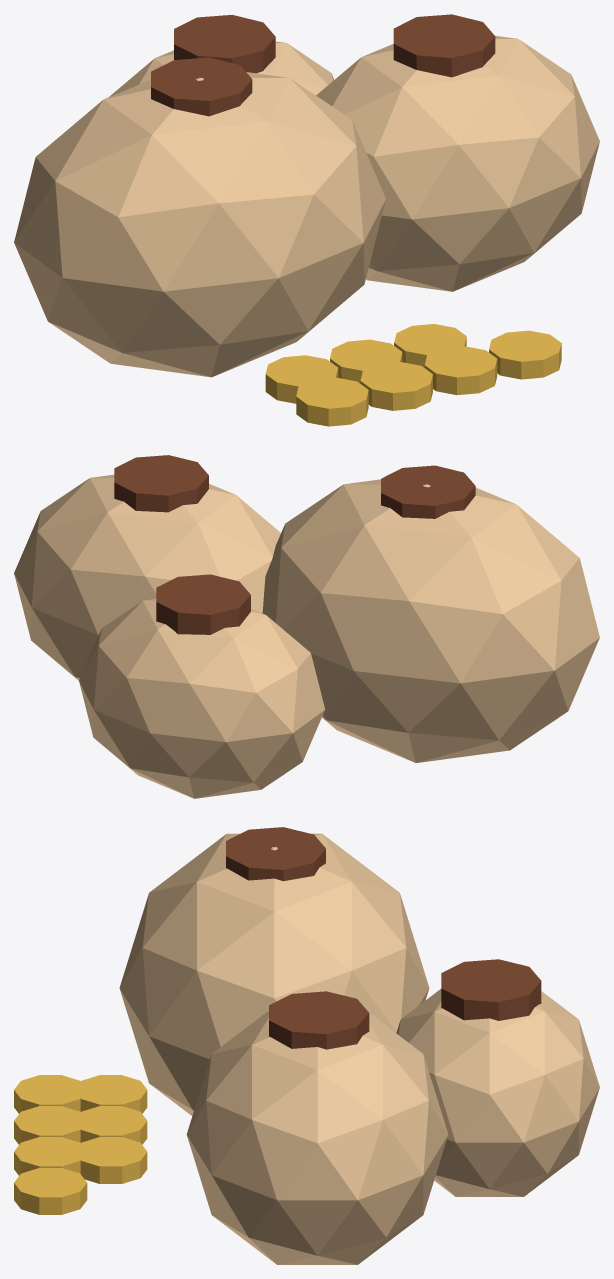
The model's file is gold-sacks.glb.
3 views of the same model, one above another, from view 1: azimuth 30°, elevation 25°; view 2: azimuth 150°, elevation 25°; view 3: azimuth 270°, elevation 25° (orthographic). The views are drawn at different scales.
Visible parts, largest first — view 1: Canvas sack, Canvas sack.001, Sack tie.001, Sack tie, Sack tie.002, Loose gold coin, Loose gold coin.001, Loose gold coin.003, Loose gold coin.002, Canvas sack.002, Loose gold coin.004, Loose gold coin.006 (+1 smaller); view 2: Canvas sack, Canvas sack.002, Canvas sack.001, Sack tie.002, Sack tie.001, Sack tie; view 3: Canvas sack.001, Canvas sack, Canvas sack.002, Sack tie.002, Sack tie.001, Sack tie, Loose gold coin.003, Loose gold coin.006, Loose gold coin.001, Loose gold coin.004, Loose gold coin.002, Loose gold coin (+1 smaller).
Boxes of the visible parts, bbox=[...] form: Canvas sack: bbox=[14, 72, 385, 377]; Canvas sack.001: bbox=[316, 35, 599, 291]; Sack tie.001: bbox=[393, 14, 495, 77]; Sack tie: bbox=[151, 57, 252, 116]; Sack tie.002: bbox=[174, 15, 275, 73]; Loose gold coin: bbox=[296, 377, 368, 426]; Loose gold coin.001: bbox=[360, 362, 432, 410]; Loose gold coin.003: bbox=[489, 330, 561, 379]; Loose gold coin.002: bbox=[424, 346, 497, 395]; Canvas sack.002: bbox=[109, 41, 334, 96]; Loose gold coin.004: bbox=[265, 355, 338, 403]; Loose gold coin.006: bbox=[394, 324, 466, 367]; Canvas sack: bbox=[262, 479, 599, 762]; Canvas sack.002: bbox=[79, 599, 325, 798]; Canvas sack.001: bbox=[14, 474, 280, 680]; Sack tie.002: bbox=[156, 574, 250, 634]; Sack tie.001: bbox=[114, 455, 208, 512]; Sack tie: bbox=[381, 465, 475, 518]; Canvas sack.001: bbox=[186, 1010, 448, 1264]; Canvas sack: bbox=[119, 833, 429, 1115]; Canvas sack.002: bbox=[396, 989, 599, 1196]; Sack tie.002: bbox=[441, 959, 541, 1020]; Sack tie.001: bbox=[269, 991, 369, 1049]; Sack tie: bbox=[226, 827, 325, 881]; Loose gold coin.003: bbox=[14, 1168, 87, 1214]; Loose gold coin.006: bbox=[75, 1137, 147, 1183]; Loose gold coin.001: bbox=[14, 1106, 86, 1144]; Loose gold coin.004: bbox=[76, 1075, 147, 1113]; Loose gold coin.002: bbox=[14, 1137, 84, 1175]; Loose gold coin: bbox=[14, 1075, 82, 1113].
Size of the model in its own units: 1.49 by 0.72 by 1.36.
